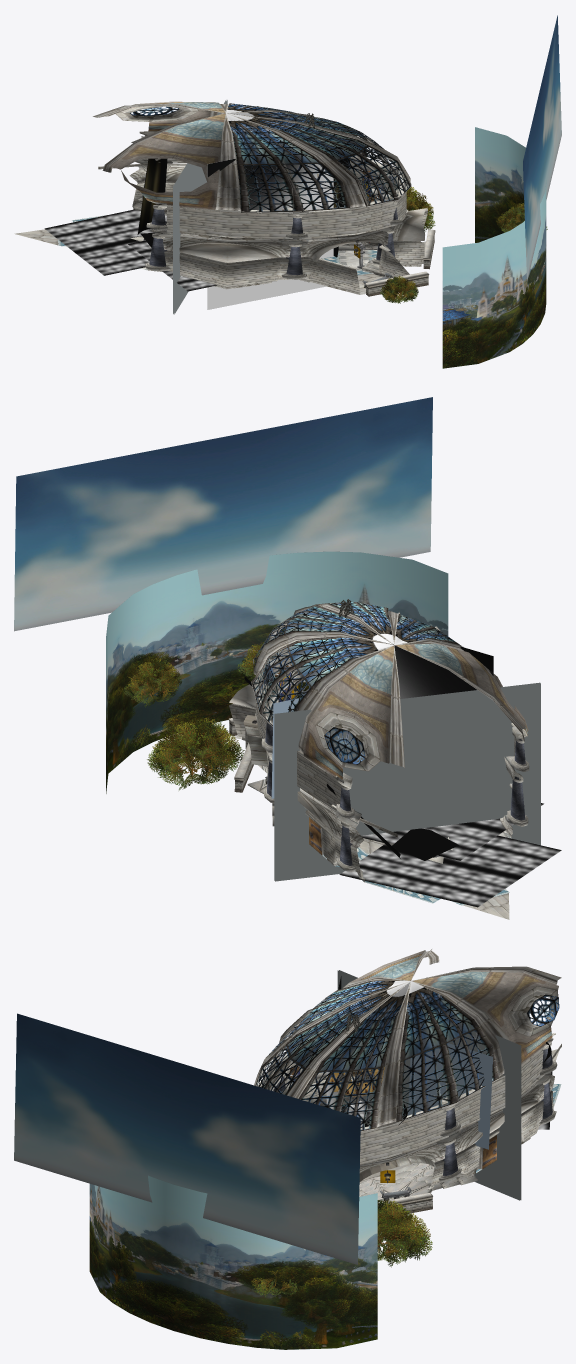
File: ui_alliance.obj
3 views of the same model, one above another, from view 1: azimuth 30°, elevation 25°; view 2: azimuth 150°, elevation 25°; view 3: azimuth 270°, elevation 25° (orthographic). The views are drawn at different scales.
Parts seen in each view (by area): view 1: 32, 30, 31, 23, 21, 35, 24, 19, 6, 33, 34, 13 (+5 smaller); view 2: 35, 32, 33, 23, 24, 30, 21, 13, 31, 6, 12, 19 (+5 smaller); view 3: 35, 32, 30, 23, 31, 21, 33, 15, 13, 19, 34, 12 (+2 smaller).
Part boxes in pixels (bbox=[...]): 32: bbox=[442, 127, 546, 368]; 30: bbox=[226, 103, 410, 212]; 31: bbox=[132, 157, 427, 292]; 23: bbox=[93, 103, 427, 294]; 21: bbox=[110, 101, 225, 210]; 35: bbox=[523, 15, 561, 281]; 24: bbox=[44, 209, 216, 291]; 19: bbox=[129, 165, 427, 262]; 6: bbox=[207, 158, 333, 309]; 33: bbox=[173, 100, 227, 314]; 34: bbox=[142, 171, 397, 275]; 13: bbox=[380, 187, 435, 303]; 35: bbox=[14, 397, 432, 631]; 32: bbox=[106, 551, 448, 793]; 33: bbox=[274, 682, 540, 881]; 23: bbox=[229, 603, 529, 882]; 24: bbox=[339, 803, 561, 907]; 30: bbox=[251, 602, 463, 726]; 21: bbox=[303, 643, 528, 779]; 13: bbox=[147, 715, 244, 790]; 31: bbox=[229, 648, 515, 878]; 6: bbox=[356, 621, 493, 698]; 12: bbox=[124, 642, 263, 707]; 19: bbox=[229, 680, 520, 846]; 35: bbox=[14, 1013, 360, 1264]; 32: bbox=[89, 1175, 377, 1349]; 30: bbox=[255, 981, 499, 1131]; 23: bbox=[254, 949, 561, 1200]; 31: bbox=[272, 1049, 553, 1188]; 21: bbox=[349, 950, 558, 1063]; 33: bbox=[337, 970, 521, 1200]; 15: bbox=[408, 1043, 492, 1149]; 13: bbox=[377, 1199, 432, 1267]; 19: bbox=[309, 1072, 554, 1181]; 34: bbox=[273, 1048, 552, 1176]; 12: bbox=[251, 1270, 304, 1297].
Bounding box in the file's own units: 36.47 × 16.56 × 30.9.
35 materials, 35 textured.
